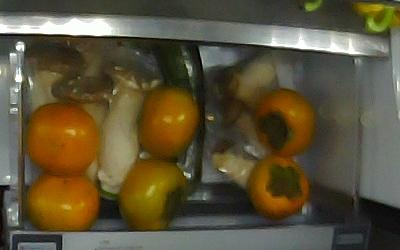persimmon: (26, 103, 98, 176), (117, 161, 186, 228), (136, 87, 200, 159), (25, 172, 99, 230), (254, 89, 316, 156), (247, 157, 310, 220)
